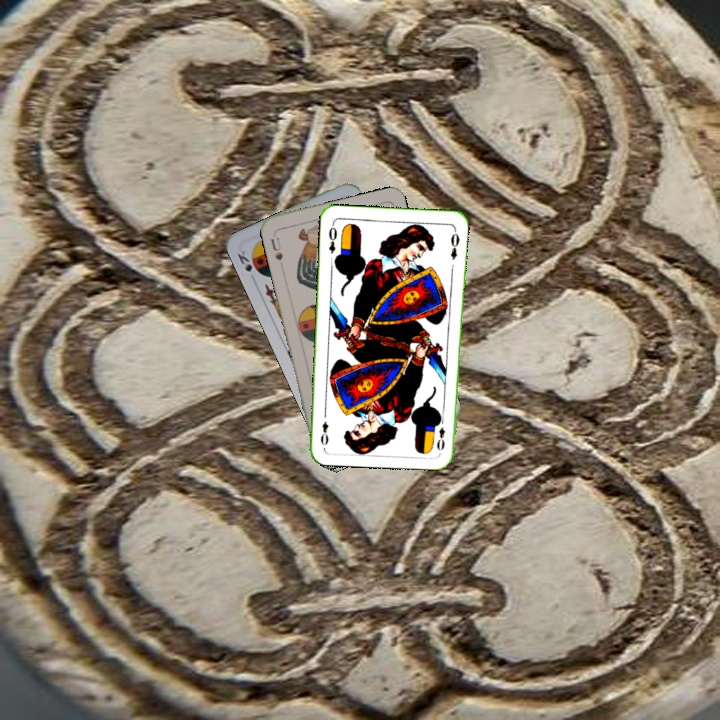EO: (324, 220, 340, 256), (434, 423, 448, 453)
SK: (233, 246, 255, 274)
SU: (267, 230, 285, 263)
